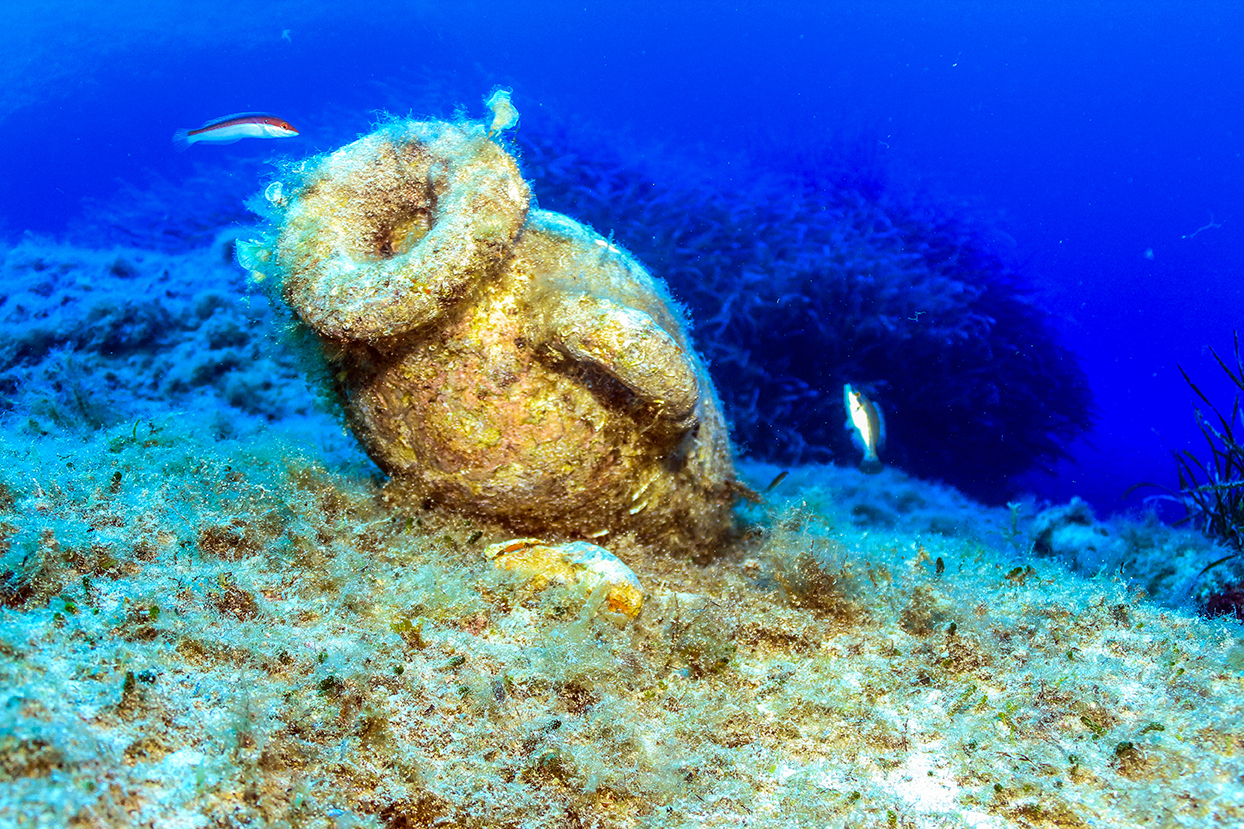amphora: (239, 105, 773, 565)
